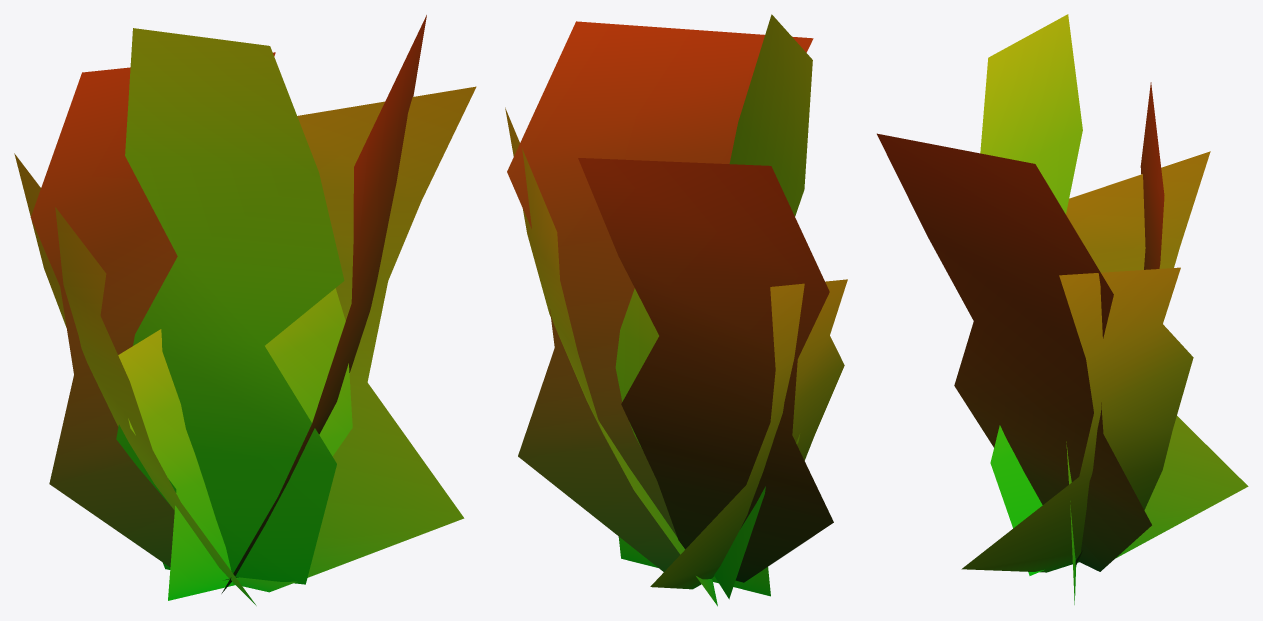
Rendered from Var8Hi54.fbx.
3 views of the same model, side by side, from view 1: azimuth 30°, elevation 25°; view 2: azimuth 150°, elevation 25°; view 3: azimuth 270°, elevation 25° (orthographic). The views are drawn at different scales.
Parts seen in each view (by area): view 1: bend1; view 2: bend1; view 3: bend1.
Boxes of the visible parts, <box> form: bend1: <box>14,15,476,605</box>; bend1: <box>505,14,847,606</box>; bend1: <box>877,14,1248,604</box>.
Bounding box in the file's own units: 1.26 × 1.77 × 1.18.
